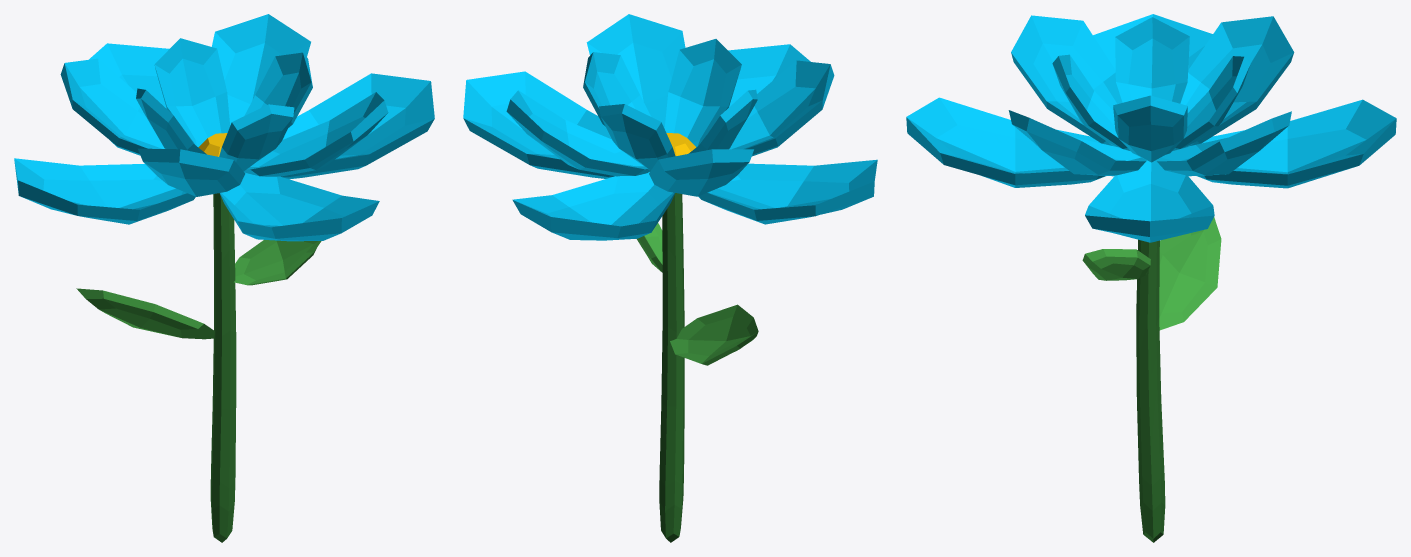
Rendered from Blue_Flower.fbx.
3 renders of one model, left to right at view 1: azimuth 30°, elevation 25°; view 2: azimuth 150°, elevation 25°; view 3: azimuth 270°, elevation 25°, orthographic. The views are drawn at different scales.
Parts seen in each view (by area): view 1: pCube21.012, pCube23.002, pCube22.012, pCube21.013, pCube22.017, pCube21.014, pCube22.015, pCube21.015, pCube22.014, pCube24.002, pCube22.016, pCube25.002 (+3 smaller); view 2: pCube21.012, pCube23.002, pCube22.013, pCube21.013, pCube22.016, pCube22.014, pCube21.015, pCube22.015, pCube21.014, pCube24.002, pCube22.017, pCube21.017 (+3 smaller); view 3: pCube22.013, pCube22.012, pCube21.013, pCube23.002, pCube21.014, pCube22.014, pCube21.016, pCube24.002, pCube21.017, pCube21.015, pCube22.015, pCube22.017 (+3 smaller).
Part boxes in pixels (x1,y1,x2,y2): pCube21.012: [14, 158, 195, 224]; pCube23.002: [210, 193, 236, 542]; pCube22.012: [219, 172, 379, 241]; pCube21.013: [281, 73, 434, 179]; pCube22.017: [154, 38, 230, 147]; pCube21.014: [60, 58, 164, 155]; pCube22.015: [211, 14, 310, 125]; pCube21.015: [243, 92, 388, 176]; pCube22.014: [138, 148, 245, 196]; pCube24.002: [76, 288, 214, 339]; pCube22.016: [219, 104, 294, 171]; pCube25.002: [234, 240, 321, 285]; pCube21.012: [698, 159, 877, 224]; pCube23.002: [659, 193, 684, 542]; pCube22.013: [512, 172, 674, 240]; pCube21.013: [463, 71, 614, 178]; pCube22.016: [664, 39, 741, 146]; pCube22.014: [729, 60, 834, 156]; pCube21.015: [586, 14, 685, 128]; pCube22.015: [506, 90, 650, 176]; pCube21.014: [649, 149, 753, 196]; pCube24.002: [670, 304, 758, 365]; pCube22.017: [599, 104, 675, 170]; pCube21.017: [583, 52, 651, 126]; pCube22.013: [1197, 99, 1396, 188]; pCube22.012: [906, 97, 1105, 187]; pCube21.013: [1085, 160, 1214, 242]; pCube23.002: [1136, 239, 1165, 542]; pCube21.014: [1180, 16, 1294, 145]; pCube22.014: [1011, 15, 1122, 145]; pCube21.016: [1115, 17, 1189, 103]; pCube24.002: [1159, 217, 1221, 330]; pCube21.017: [1113, 95, 1187, 162]; pCube21.015: [1008, 110, 1146, 176]; pCube22.015: [1156, 111, 1291, 176]; pCube22.017: [1172, 56, 1250, 151].
Bounding box in the file's own units: 330 × 362 × 330.
